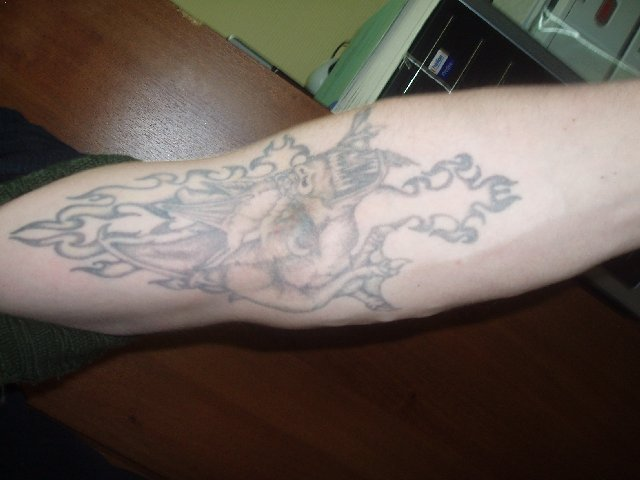tatu6_drakon: (18, 102, 544, 324)
